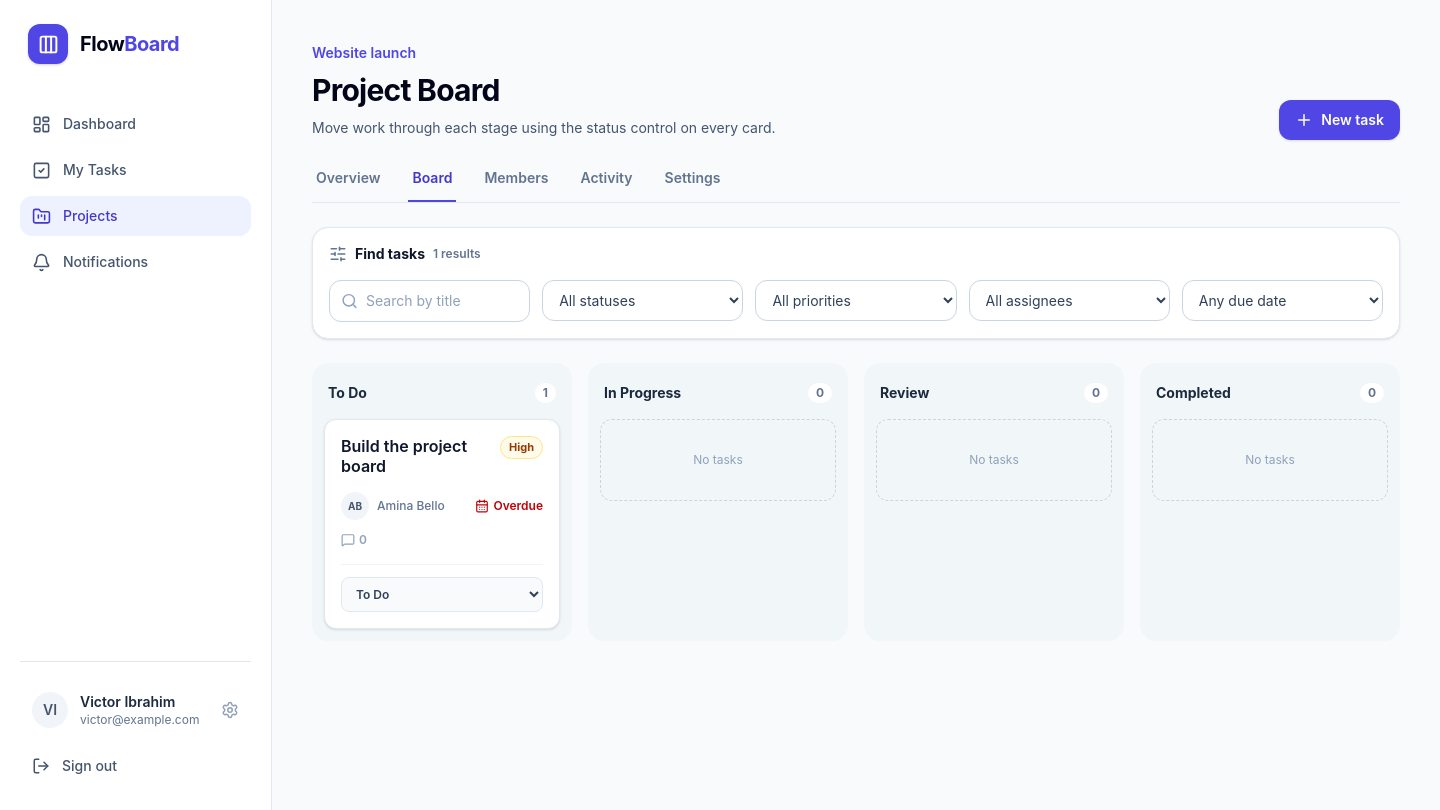
Test: FlowBoard task UI › combines board filters and shows a distinct no-results state
This screenshot has width=1440, height=810.
expect the link "Build the project board" is shown: met, box [341, 436, 488, 476]
In the search field named "Search tasks": (430, 301) [329, 280, 530, 322], type "board"
Select "To Do" in the dropdown named "Status filter": (643, 300) [542, 280, 743, 321]
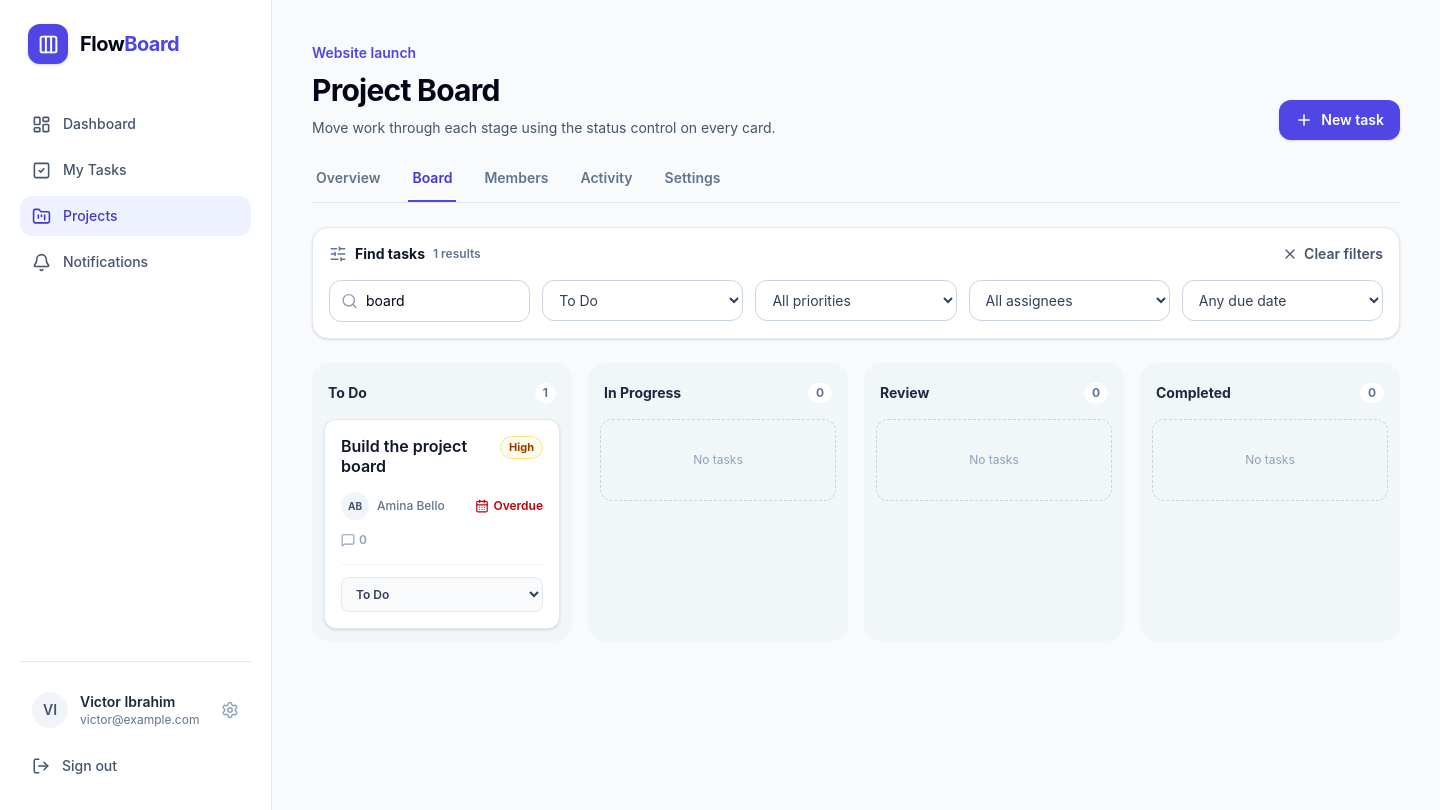
Select "High" in the dropdown named "Priority filter": (856, 300) [755, 280, 957, 321]
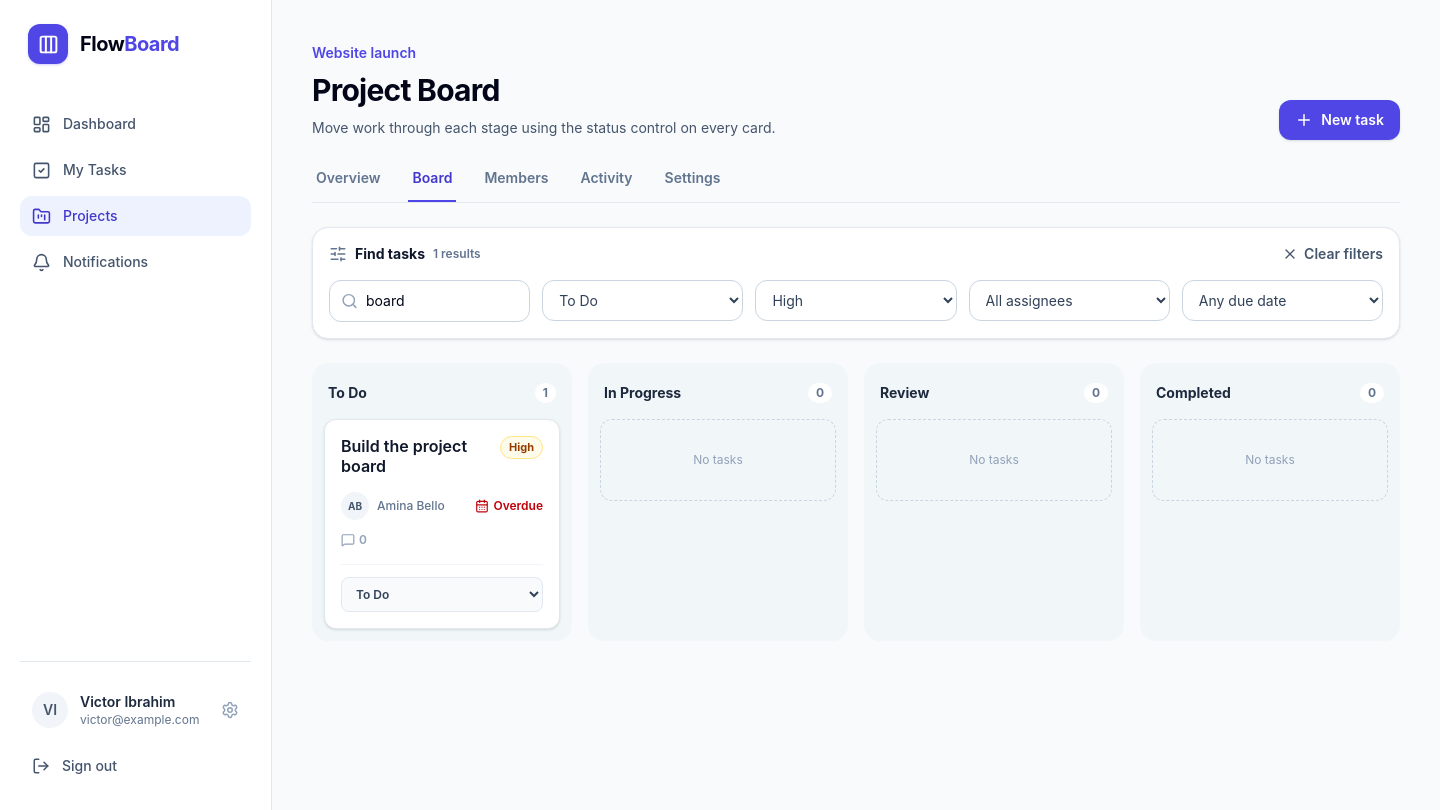
Select "Amina Bello" in the dropdown named "Assignee filter": (1069, 300) [969, 280, 1170, 321]
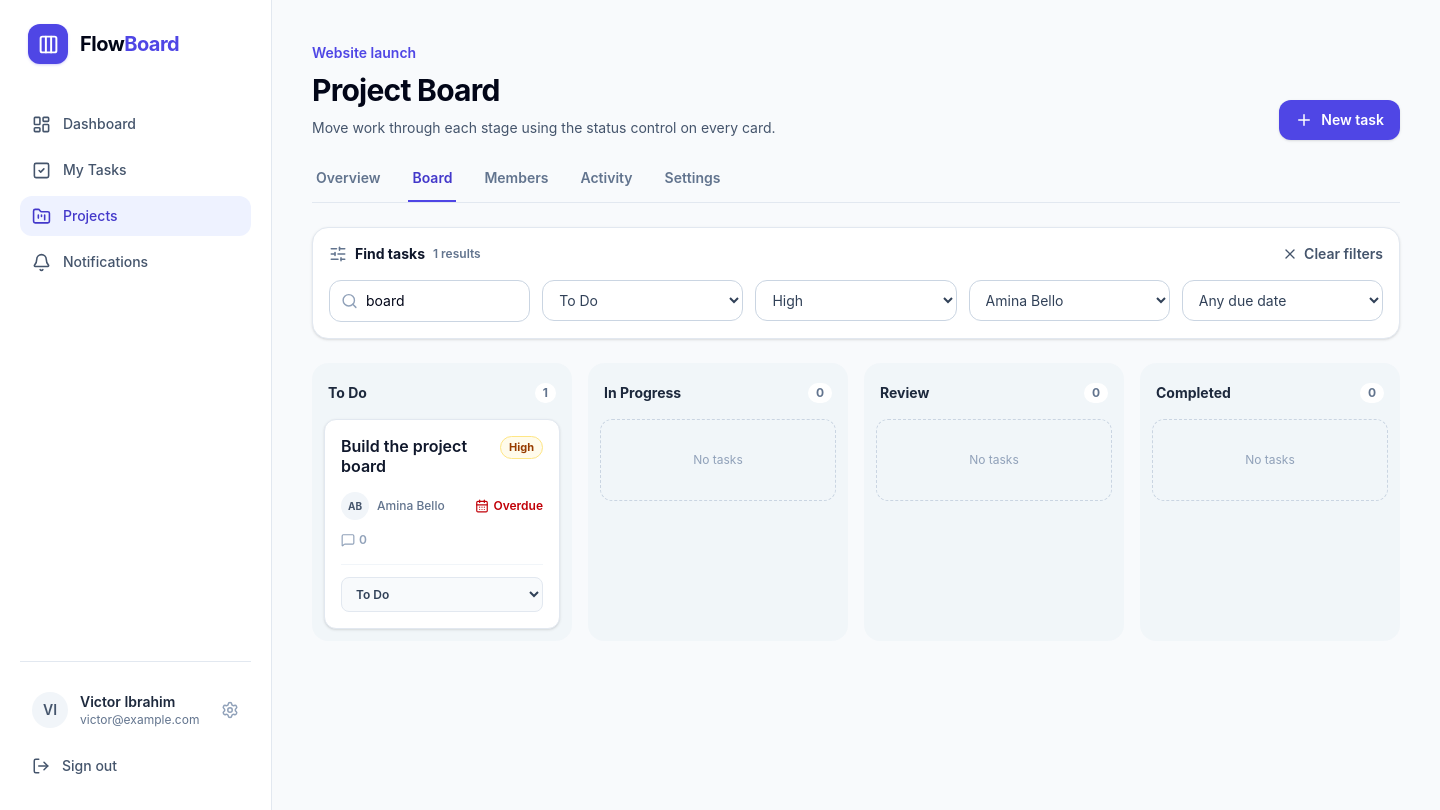
Select "Overdue" in the dropdown named "Due date filter": (1282, 300) [1182, 280, 1383, 321]
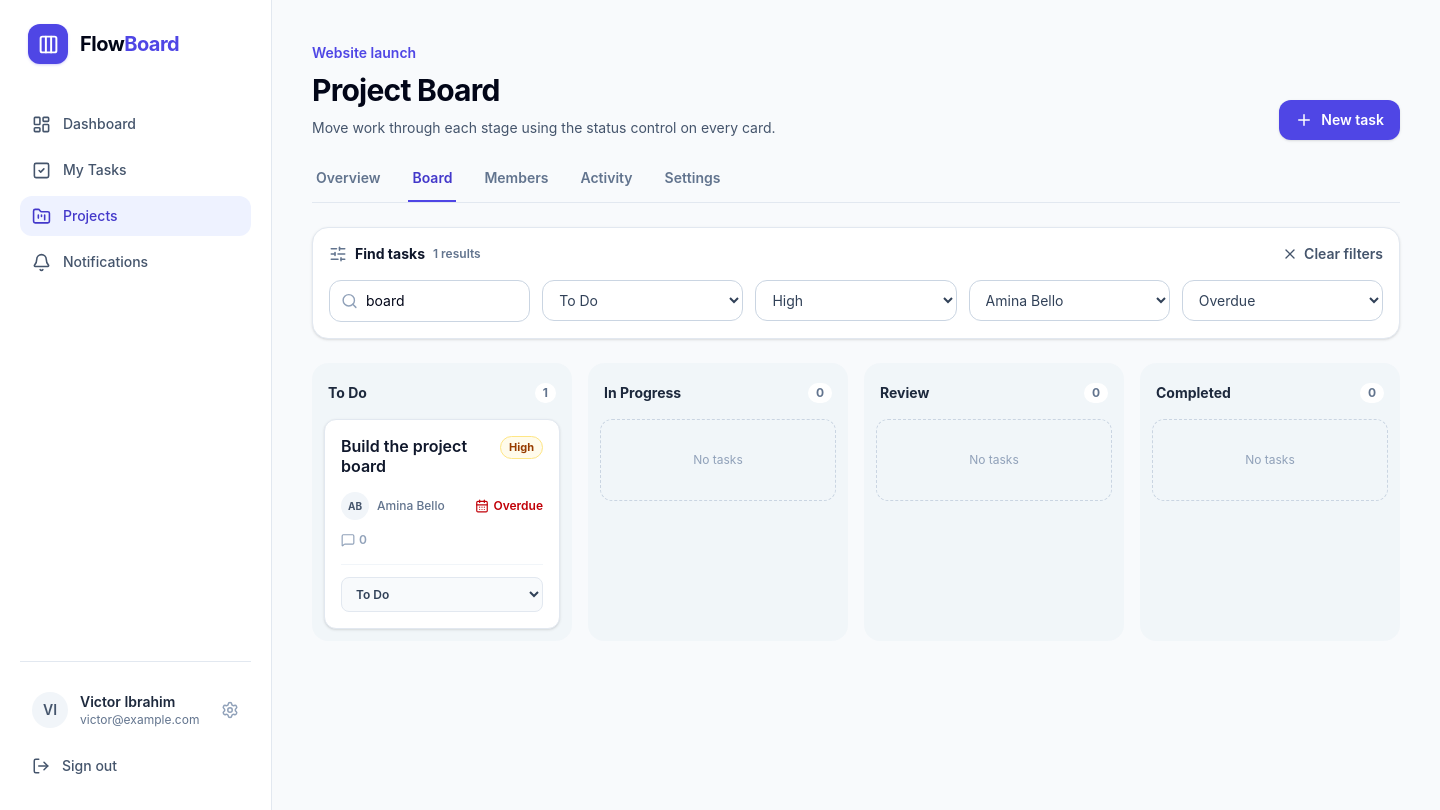
Replace the text in the search field named "Search tasks" with "missing": (430, 301) [329, 280, 530, 322]
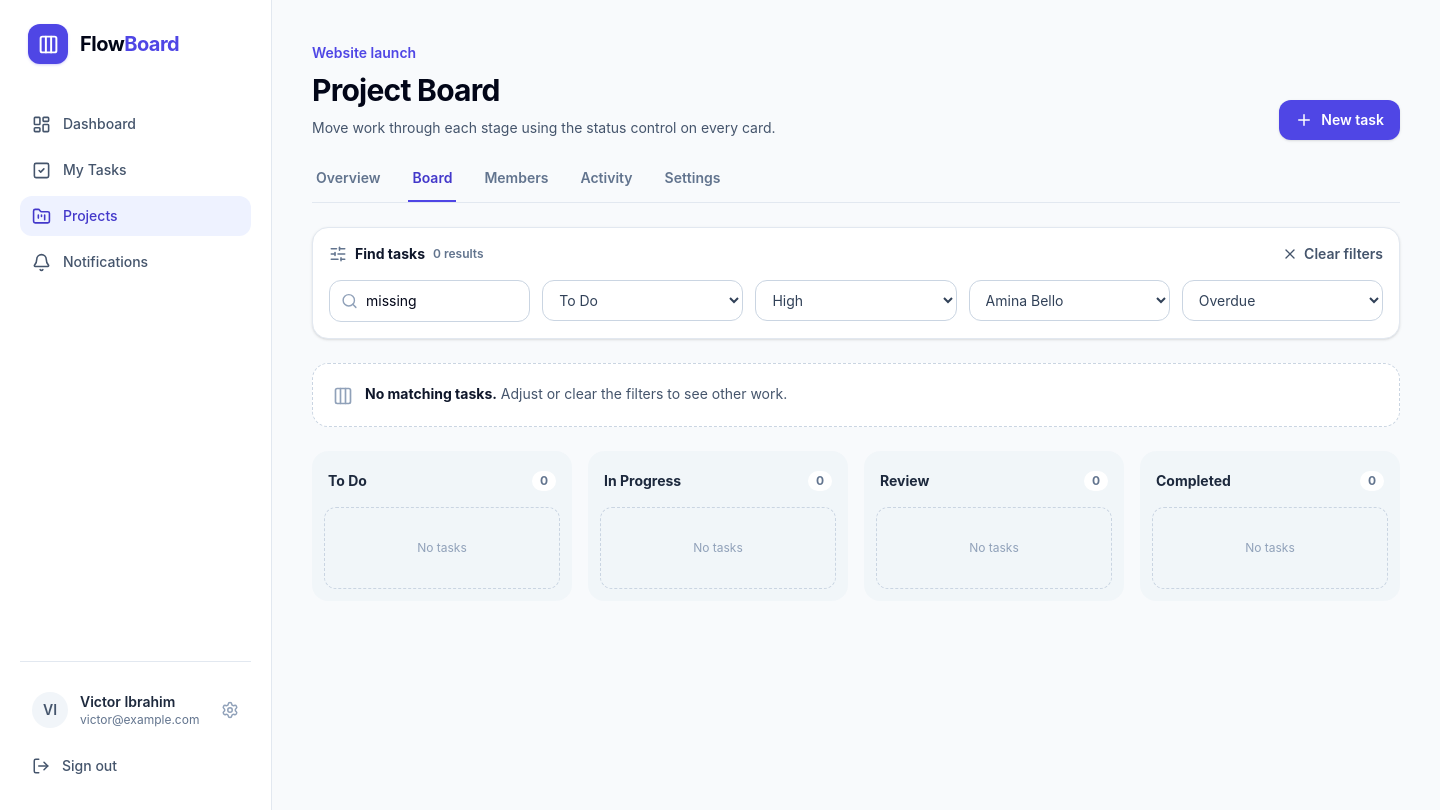
expect the text "No matching tasks." is shown: met, box [365, 385, 497, 402]
Click the button "Clear filters": (1333, 254) [1282, 244, 1383, 264]
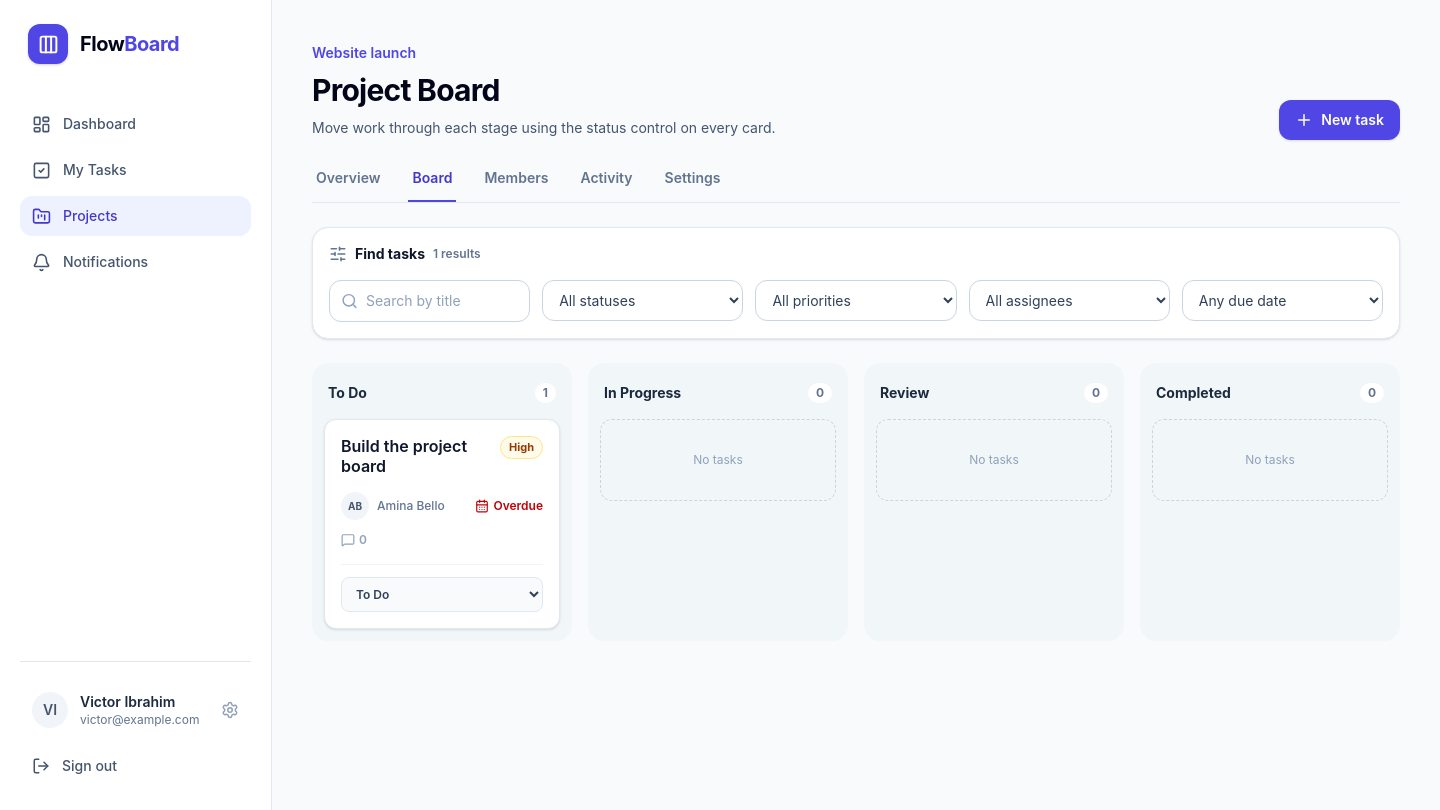
expect the link "Build the project board" is shown: met, box [341, 436, 488, 476]
